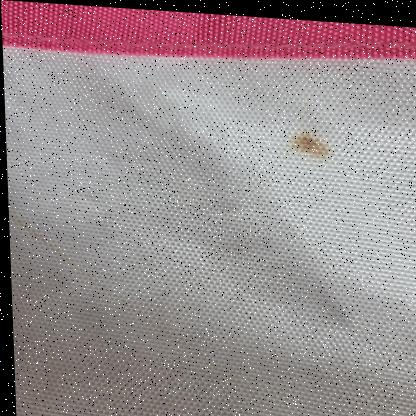spot: (281, 126, 330, 155), (6, 212, 37, 242), (45, 232, 72, 261), (101, 291, 131, 313), (78, 263, 104, 288), (174, 259, 181, 263)
